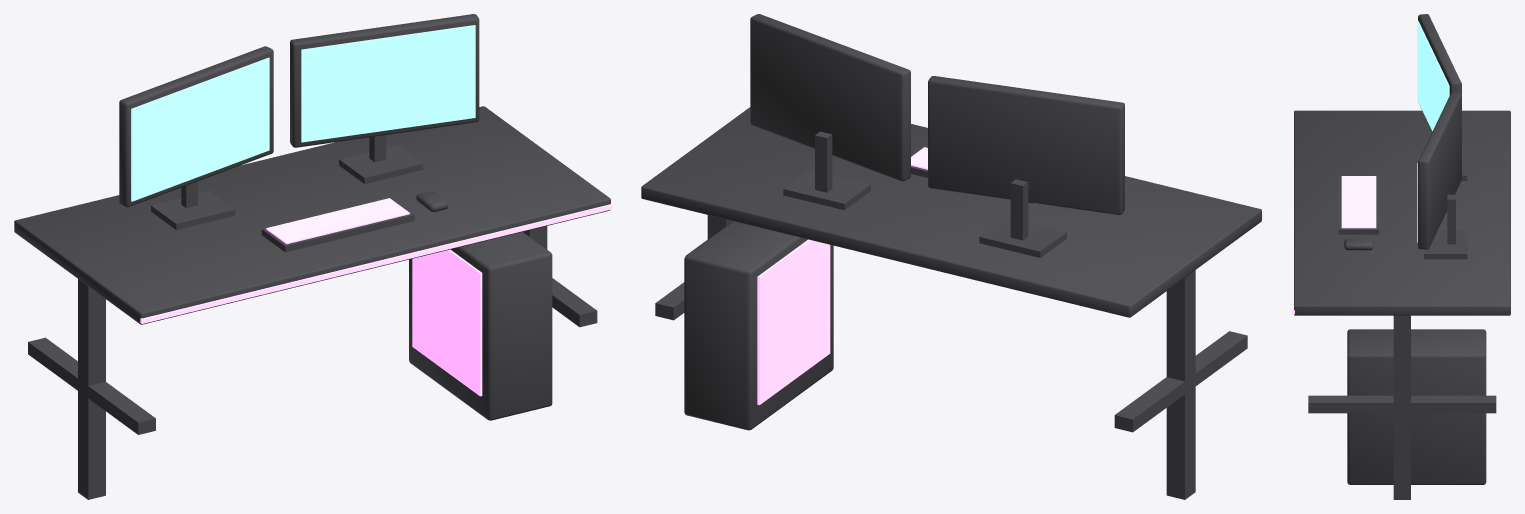
3 renders of one model, left to right at view 1: azimuth 30°, elevation 25°; view 2: azimuth 150°, elevation 25°; view 3: azimuth 270°, elevation 25°, orthographic. The views are drawn at different scales.
Visible parts, largest first — view 1: Decor_computer_setup; view 2: Decor_computer_setup; view 3: Decor_computer_setup.
Boxes of the visible parts, x1=… form: Decor_computer_setup: x1=14, y1=14, x2=612, y2=499; Decor_computer_setup: x1=641, y1=14, x2=1263, y2=499; Decor_computer_setup: x1=1292, y1=14, x2=1510, y2=499.
Size of the model in its own units: 1.6 by 1.21 by 0.756.
